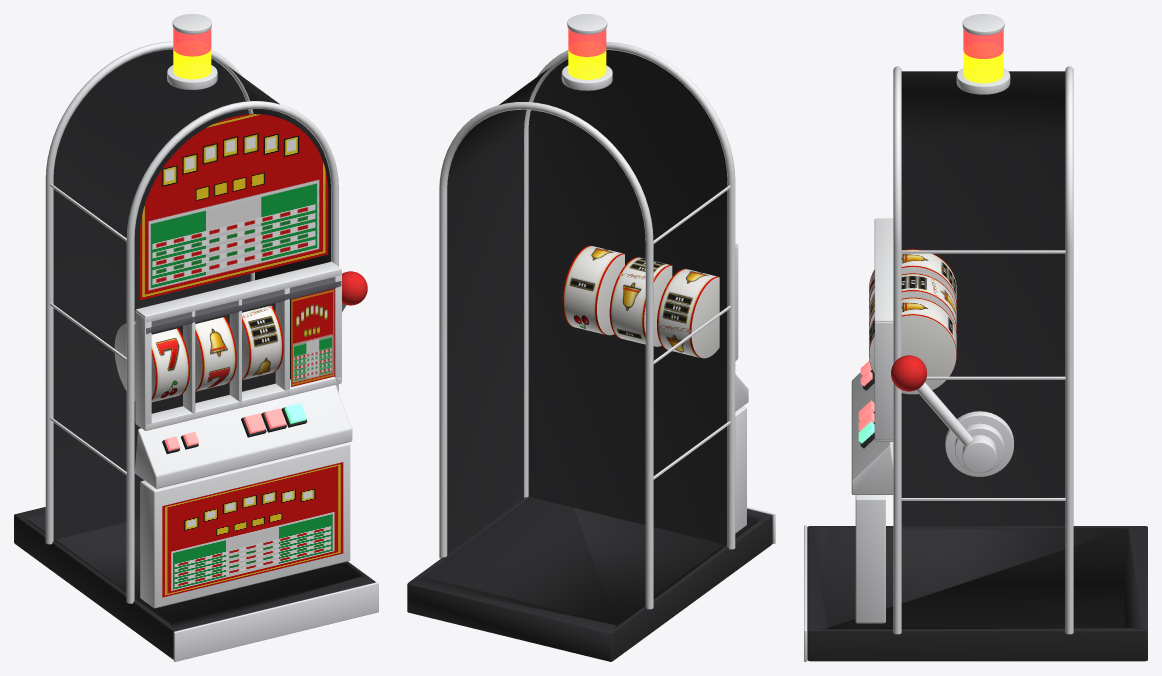
File: SlotMachine.fbx
3 renders of one model, left to right at view 1: azimuth 30°, elevation 25°; view 2: azimuth 150°, elevation 25°; view 3: azimuth 270°, elevation 25°, orthographic. The views are drawn at different scales.
Visible parts, largest first — view 1: Cabinet_Body, Marquee_Panel, Belly_Glass_Graphic, Coin_Collector_Tray, Control_Deck, Belly_Panel_Chrome_Frame, Chrome_Trim_Front_Arch, Cube.020, Chrome_Trim_Back_Arch, Side_Jackpot_Graphic, Cube.006, Slot_Reel_1 (+15 smaller); view 2: Cabinet_Body, Coin_Collector_Tray, Chrome_Trim_Back_Arch, Chrome_Trim_Front_Arch, Slot_Reel_1, Slot_Reel_3, Slot_Reel_2, Belly_Panel_Chrome_Frame, Beacon_Glass_Amber, Beacon_Glass_Red, Cylinder, Cylinder.001; view 3: Cabinet_Body, Coin_Collector_Tray, Chrome_Trim_Back_Arch, Chrome_Trim_Front_Arch, Slot_Reel_3, Belly_Panel_Chrome_Frame, Control_Deck, Cube.013, Cube.006, Lever_Hub_0, Slot_Reel_2, Slot_Reel_1 (+10 smaller).
Boxes of the visible parts, x1,y1,x2,y2 form: Cabinet_Body: [53, 49, 330, 539]; Marquee_Panel: [139, 114, 328, 300]; Belly_Glass_Graphic: [162, 462, 343, 597]; Coin_Collector_Tray: [14, 507, 375, 659]; Control_Deck: [134, 385, 352, 488]; Belly_Panel_Chrome_Frame: [140, 442, 350, 608]; Chrome_Trim_Front_Arch: [126, 101, 338, 603]; Cube.020: [173, 582, 378, 661]; Chrome_Trim_Back_Arch: [45, 41, 254, 544]; Side_Jackpot_Graphic: [291, 288, 334, 386]; Cube.006: [135, 261, 341, 322]; Slot_Reel_1: [114, 321, 189, 402]; Cabinet_Body: [447, 50, 727, 553]; Coin_Collector_Tray: [407, 496, 772, 661]; Chrome_Trim_Back_Arch: [439, 102, 653, 609]; Chrome_Trim_Front_Arch: [524, 42, 735, 549]; Slot_Reel_1: [657, 268, 719, 358]; Slot_Reel_3: [562, 245, 624, 335]; Slot_Reel_2: [609, 257, 672, 346]; Belly_Panel_Chrome_Frame: [735, 406, 746, 533]; Beacon_Glass_Amber: [568, 50, 606, 79]; Beacon_Glass_Red: [568, 29, 606, 56]; Cylinder: [561, 65, 612, 90]; Cylinder.001: [567, 14, 607, 34]; Cabinet_Body: [901, 71, 1065, 525]; Coin_Collector_Tray: [807, 526, 1147, 661]; Chrome_Trim_Back_Arch: [1065, 66, 1073, 634]; Chrome_Trim_Front_Arch: [893, 66, 901, 634]; Slot_Reel_3: [869, 297, 956, 394]; Belly_Panel_Chrome_Frame: [855, 495, 885, 623]; Control_Deck: [851, 372, 893, 494]; Cube.013: [874, 322, 893, 439]; Cube.006: [874, 218, 893, 322]; Lever_Hub_0: [945, 411, 1013, 476]; Slot_Reel_2: [869, 273, 956, 333]; Slot_Reel_1: [869, 249, 956, 308].
Bounding box in the file's own units: 156 × 339 × 180.
Materials: 12 (4 with a texture image).
